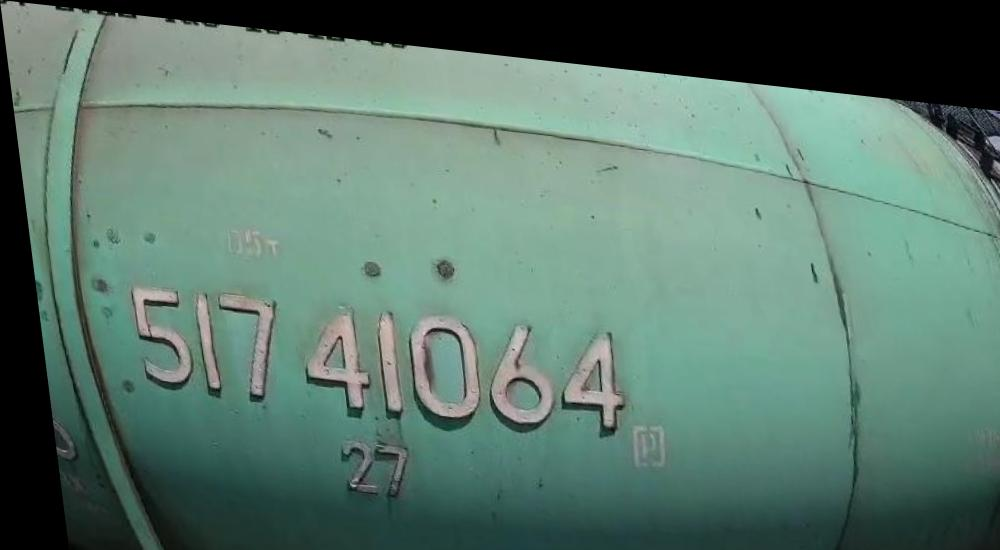Wagon-number: (116, 275, 627, 434)
